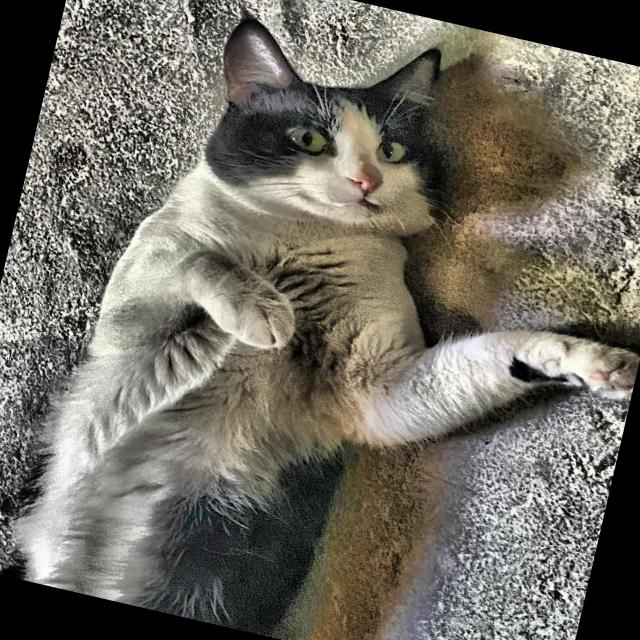Healthy skin: (52, 394, 264, 596), (438, 304, 630, 434), (198, 16, 342, 189), (205, 250, 377, 384)
